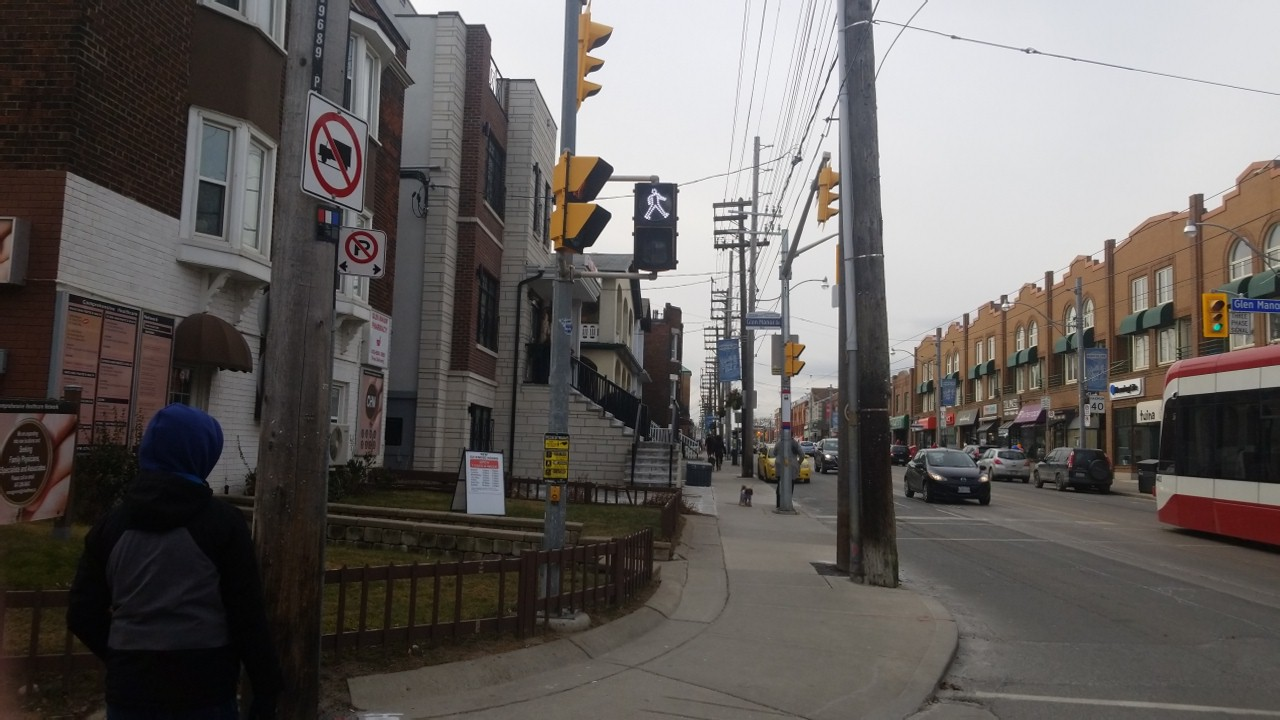light: (629, 177, 685, 279)
